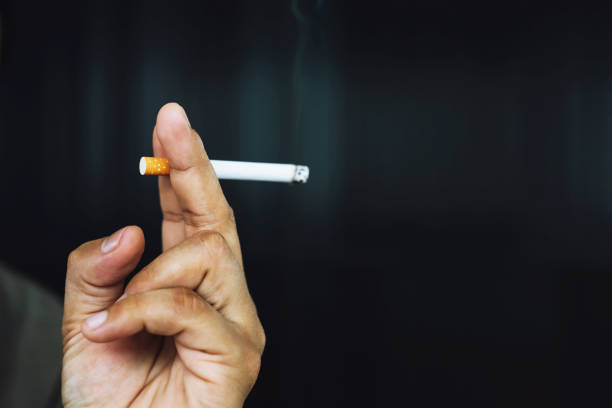cigarette: (140, 154, 309, 184)
